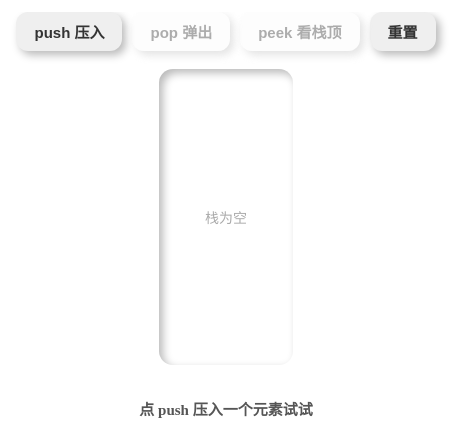
Test: StackViz › TC-VIZ-STACKVIZ-05 pop 减少一个盘子并解说
Click the button "push 压入". click: click(70, 32)
box: [16,12,122,51]
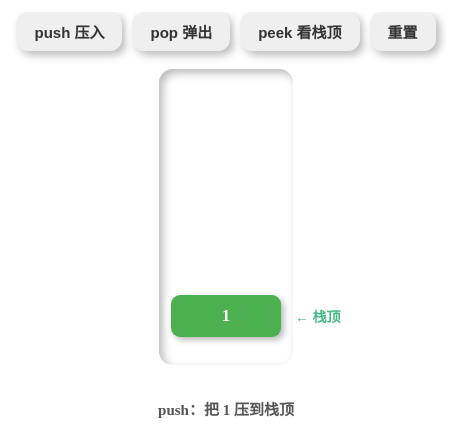
Click the button "push 压入". click: click(70, 32)
box: [16,12,122,51]
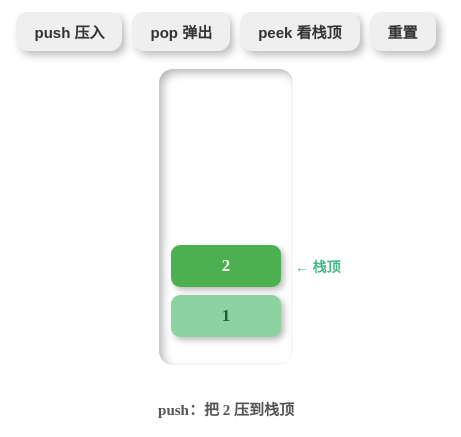
Click the button "pop 弹出". click: click(181, 32)
box: [132,12,230,51]
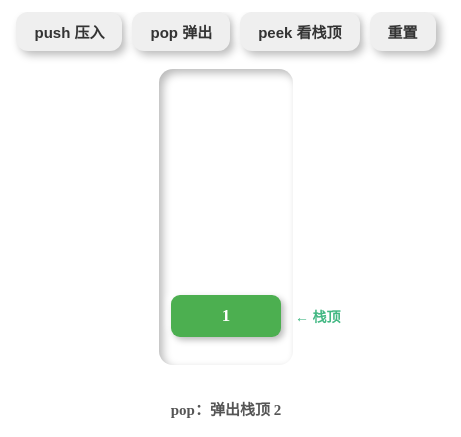
Expected: the message with class "status" shows "弹出", [171,398,281,420]
